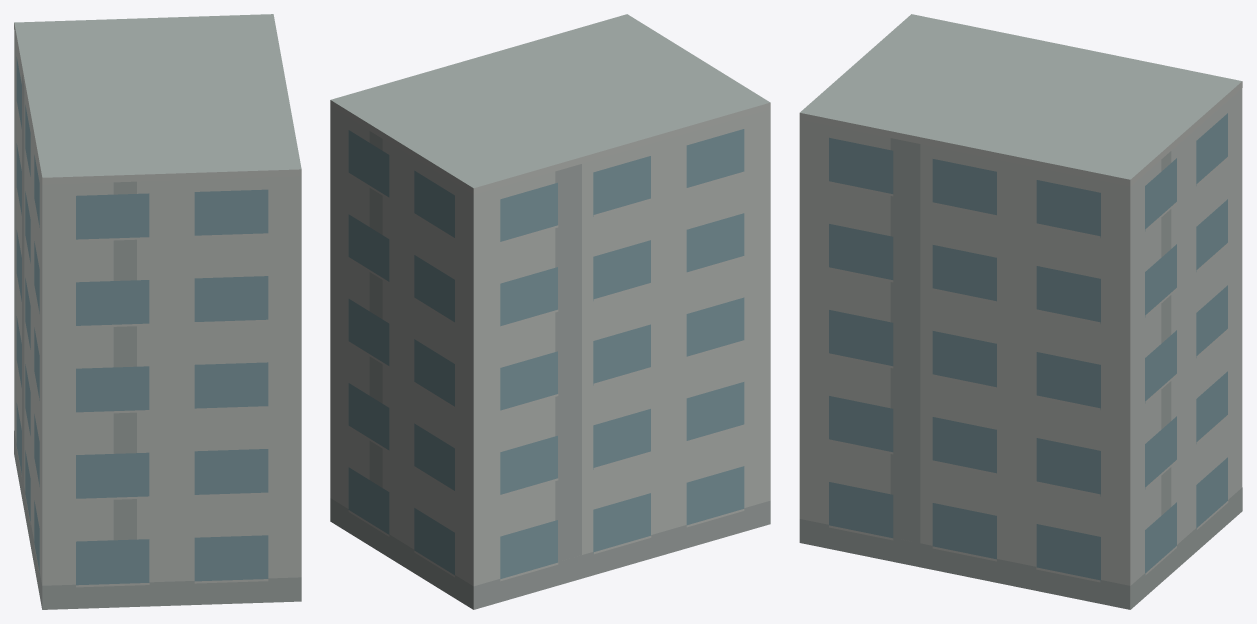
Rendered from residential-f1aeac9a-81cf-4f5b-a711-90dd15e223b6.glb.
3 views of the same model, side by side, from view 1: azimuth 30°, elevation 25°; view 2: azimuth 150°, elevation 25°; view 3: azimuth 270°, elevation 25° (orthographic). The views are drawn at different scales.
Parts seen in each view (by area): view 1: residential-f1aeac9a-81cf-4f5b-a711-90dd15e223b6.tmp; view 2: residential-f1aeac9a-81cf-4f5b-a711-90dd15e223b6.tmp; view 3: residential-f1aeac9a-81cf-4f5b-a711-90dd15e223b6.tmp.
Part boxes in pixels (left/top/right/bottom): residential-f1aeac9a-81cf-4f5b-a711-90dd15e223b6.tmp: left=14, top=14, right=301, bottom=609; residential-f1aeac9a-81cf-4f5b-a711-90dd15e223b6.tmp: left=330, top=14, right=770, bottom=609; residential-f1aeac9a-81cf-4f5b-a711-90dd15e223b6.tmp: left=799, top=14, right=1242, bottom=609.
Size of the model in its own units: 12.61 by 15.25 by 14.24.
